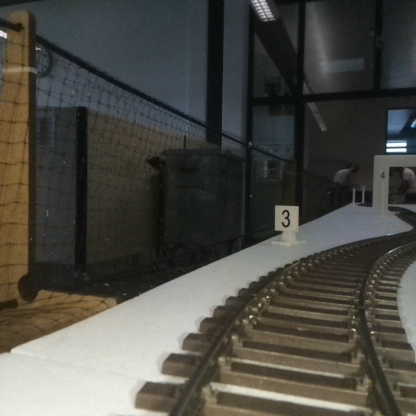white-stop-3: (275, 206, 298, 245)
